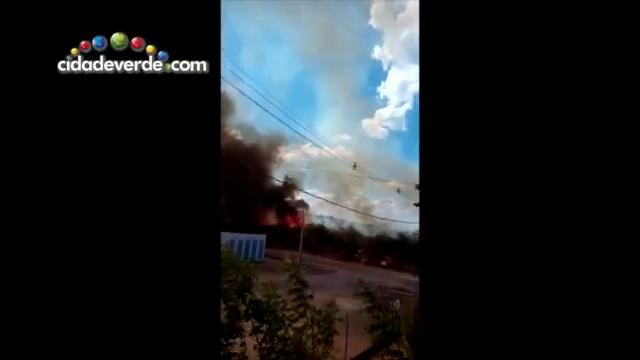smoke: (225, 138, 266, 215)
